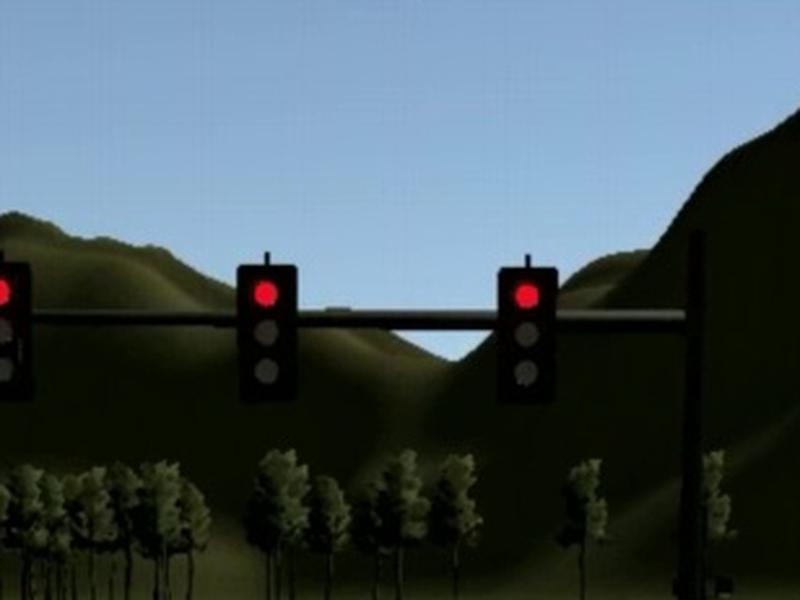Red: (497, 267, 558, 400), (236, 264, 299, 389), (1, 262, 32, 393)
